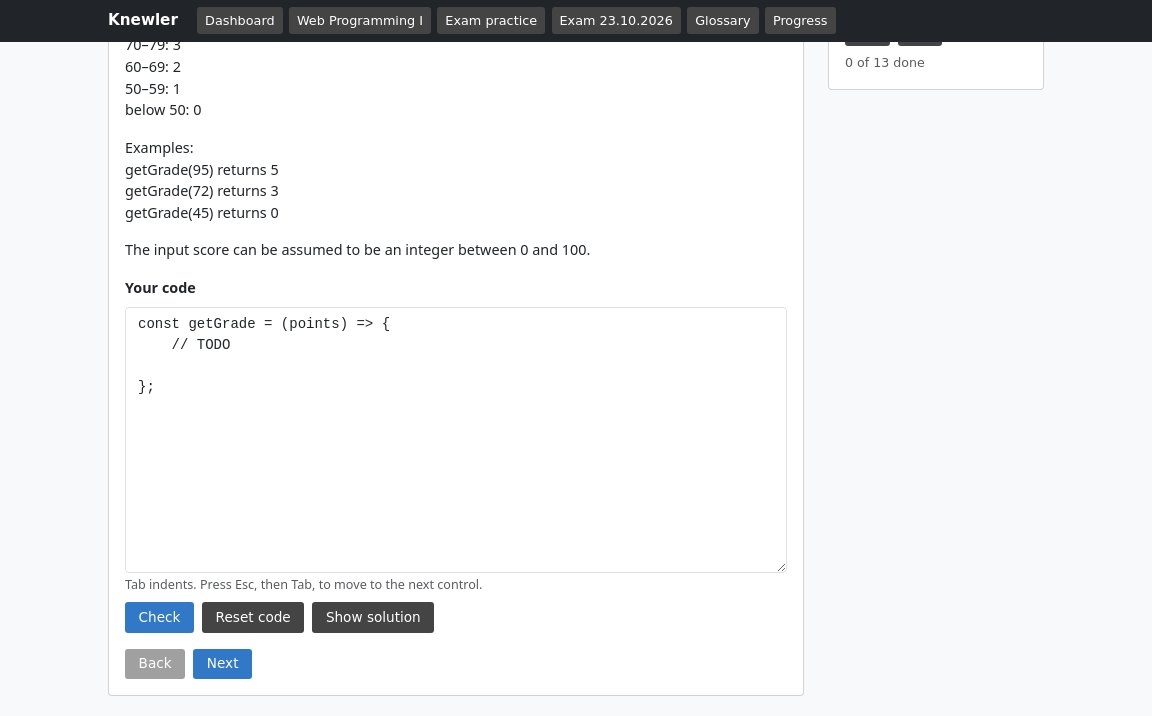
Test: Code exercises › shows the solution after confirming, and counts it as missed
(page scrolled)
Click the button "Show solution" at [373, 618], box x1=312 y1=602 x2=434 y2=633
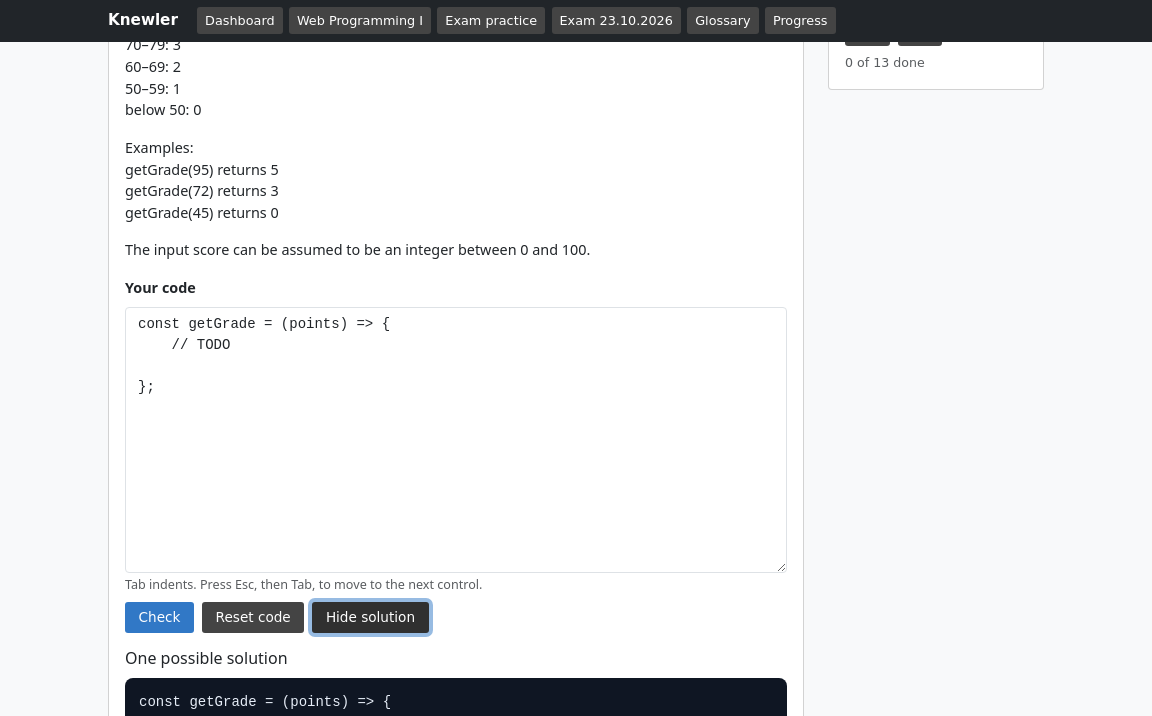
Expected: the heading "One possible solution" is shown, x1=125 y1=647 x2=288 y2=669
